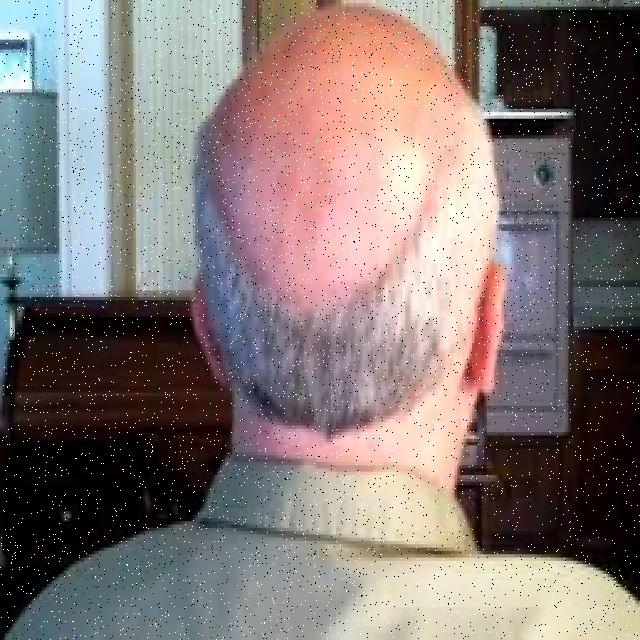Non_Helmet: (180, 0, 532, 465)
